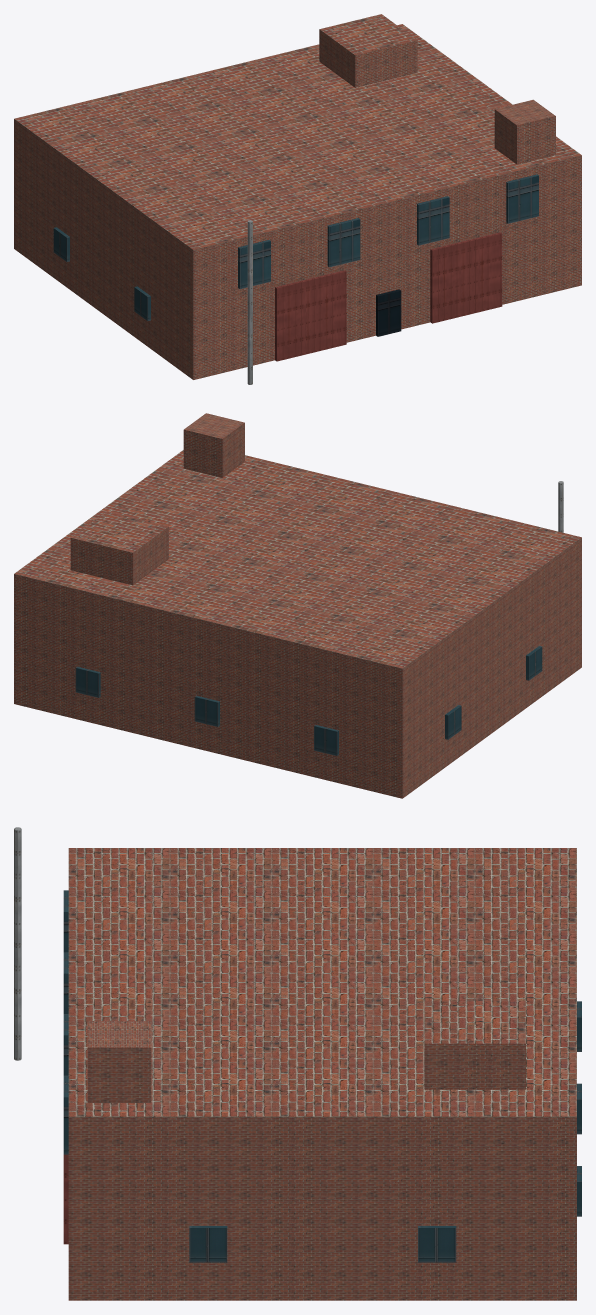
File: fire-station_lod0.gltf
3 views of the same model, one above another, from view 1: azimuth 30°, elevation 25°; view 2: azimuth 150°, elevation 25°; view 3: azimuth 270°, elevation 25° (orthographic). The views are drawn at different scales.
Visible parts, largest first — view 1: fire-station_tier0, fire-station_fen_07-glass-curtain-blue_0, fire-station__bay_door_b, fire-station_tier1, fire-station__bay_door_a, fire-station__hose_tower, fire-station_fen_07-glass-curtain-blue_1_t, fire-station__flag_pole; view 2: fire-station_tier0, fire-station_tier1, fire-station__hose_tower, fire-station_fen_07-glass-curtain-blue_0; view 3: fire-station_tier0, fire-station_tier1, fire-station__hose_tower, fire-station_fen_07-glass-curtain-blue_0, fire-station__flag_pole.
Boxes of the visible parts, bbox=[...] form: fire-station_tier0: bbox=[14, 24, 581, 379]; fire-station_fen_07-glass-curtain-blue_0: bbox=[53, 174, 538, 320]; fire-station__bay_door_b: bbox=[430, 232, 502, 323]; fire-station_tier1: bbox=[319, 14, 417, 87]; fire-station__bay_door_a: bbox=[275, 270, 346, 361]; fire-station__hose_tower: bbox=[494, 99, 555, 164]; fire-station_fen_07-glass-curtain-blue_1_t: bbox=[376, 289, 401, 336]; fire-station__flag_pole: bbox=[247, 220, 252, 384]; fire-station_tier0: bbox=[14, 450, 581, 798]; fire-station_tier1: bbox=[70, 511, 168, 585]; fire-station__hose_tower: bbox=[183, 413, 244, 477]; fire-station_fen_07-glass-curtain-blue_0: bbox=[75, 646, 542, 755]; fire-station_tier0: bbox=[68, 848, 576, 1300]; fire-station_tier1: bbox=[424, 1000, 525, 1089]; fire-station__hose_tower: bbox=[87, 1021, 151, 1102]; fire-station_fen_07-glass-curtain-blue_0: bbox=[63, 890, 581, 1262]; fire-station__flag_pole: bbox=[14, 827, 21, 1060].
Size of the model in its own units: 25.4 by 10.4 by 22.35.
